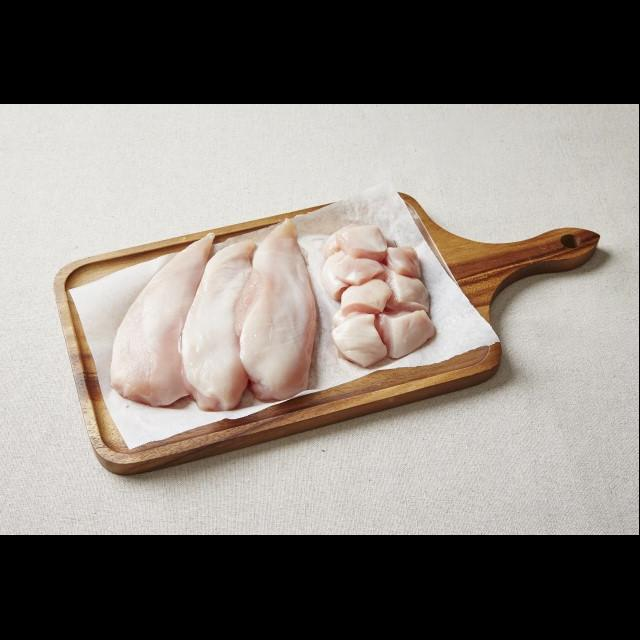chicken: (109, 231, 217, 407), (234, 219, 319, 402), (178, 241, 259, 411)
